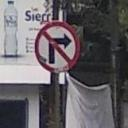NoVirarDireita: (36, 22, 80, 73)
